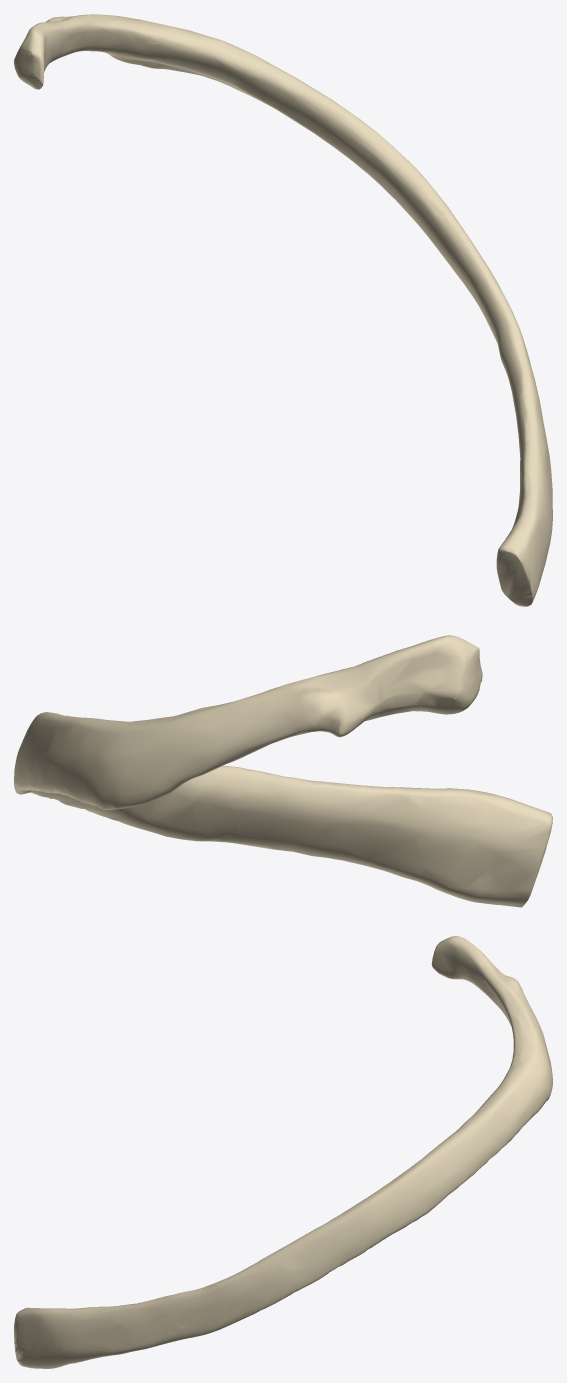
The model's file is esqueleto-sixth-rib-l.glb.
3 renders of one model, top to bottom at view 1: azimuth 30°, elevation 25°; view 2: azimuth 150°, elevation 25°; view 3: azimuth 270°, elevation 25°, orthographic. The views are drawn at different scales.
Visible parts, largest first — view 1: Sixth rib.l; view 2: Sixth rib.l; view 3: Sixth rib.l.
Boxes of the visible parts, <box> form: Sixth rib.l: <box>14,14,552,606</box>; Sixth rib.l: <box>14,635,552,907</box>; Sixth rib.l: <box>14,936,552,1368</box>.
Bounding box in the file's own units: 0.1231 × 0.1386 × 0.1962.
